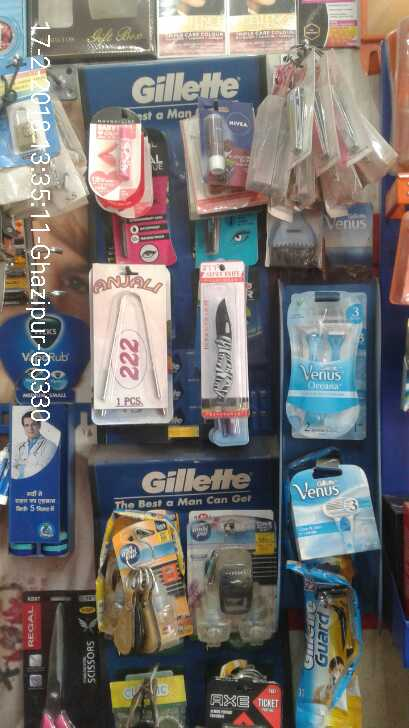beauty: (283, 284, 367, 450), (298, 569, 368, 728), (284, 466, 387, 558)
home: (194, 524, 282, 643), (113, 523, 191, 656)
